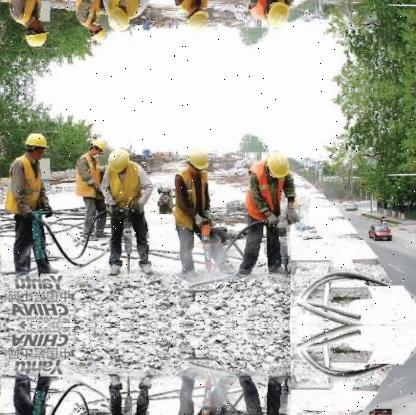helmet: (260, 148, 295, 180), (260, 0, 296, 31), (184, 146, 212, 175), (184, 4, 212, 33), (25, 130, 51, 159), (25, 20, 51, 49), (107, 145, 130, 175), (107, 3, 130, 33), (88, 135, 107, 156), (88, 23, 107, 44)
